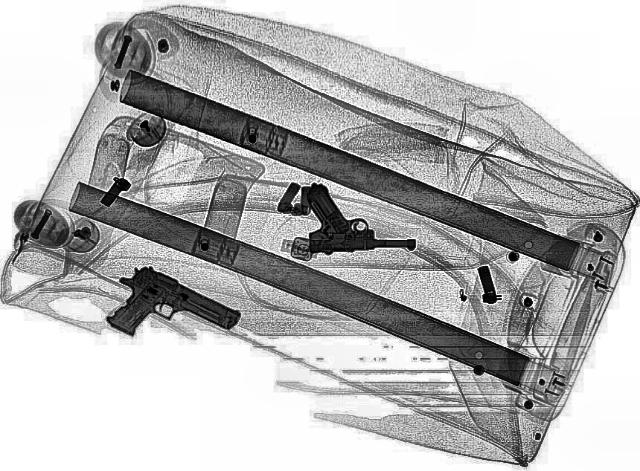Gun: (81, 262, 246, 366), (306, 180, 414, 252)
